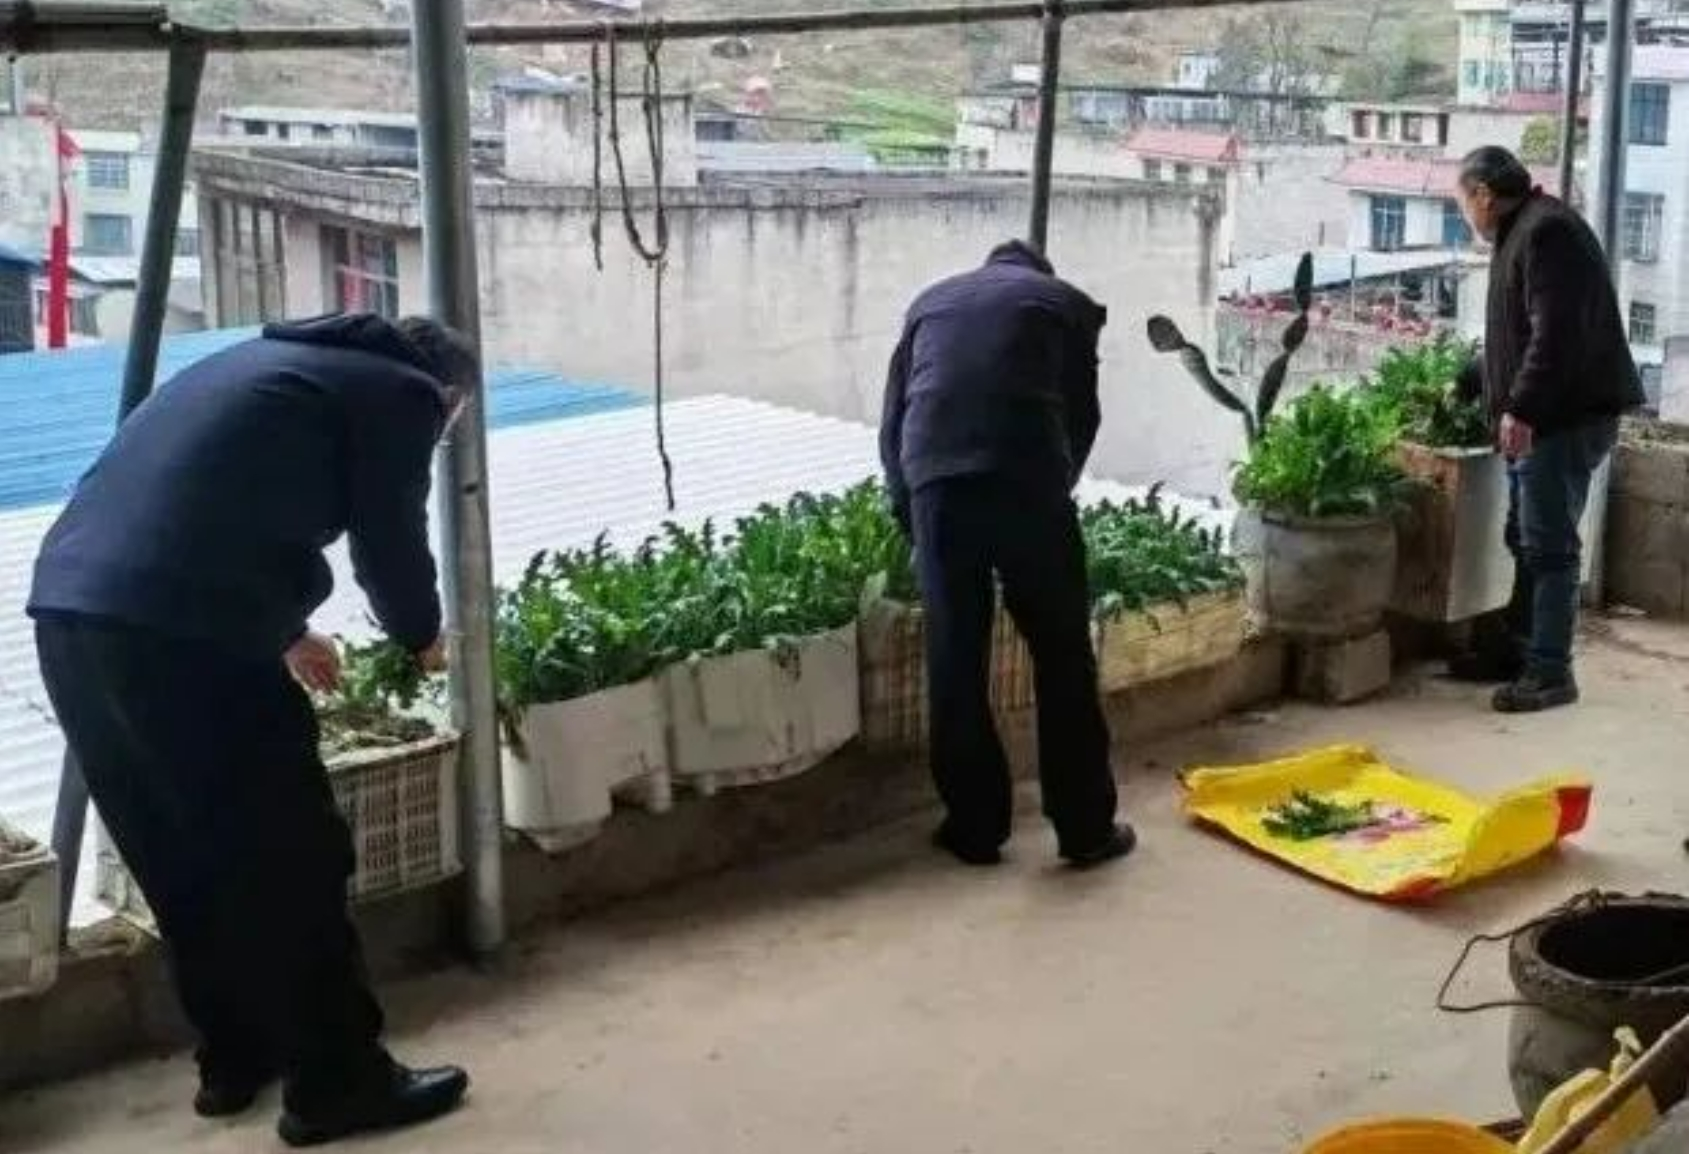Poppy: (463, 469, 913, 682), (1056, 462, 1247, 616)
